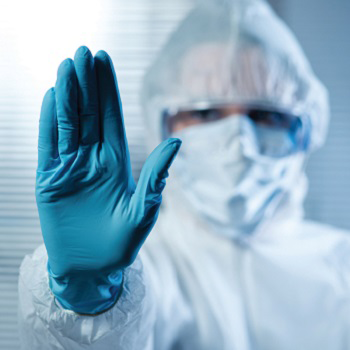Coverall: (18, 1, 348, 348)
Gloves: (34, 47, 181, 316)
Goggles: (159, 98, 312, 162)
with_mask: (172, 118, 298, 235)
